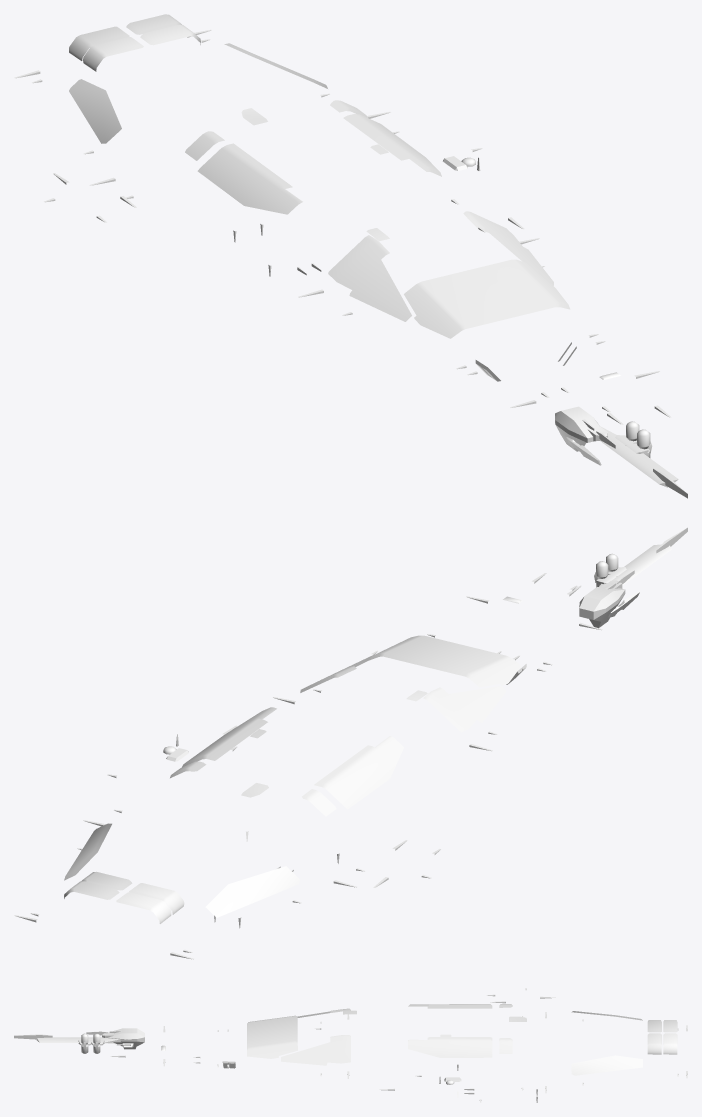
File: hgn_fs_seek_01_t3.glb
3 views of the same model, one above another, from view 1: azimuth 30°, elevation 25°; view 2: azimuth 150°, elevation 25°; view 3: azimuth 270°, elevation 25° (orthographic). The views are drawn at different scales.
Parts seen in each view (by area): view 1: hgn_fs_explorer_03_LOD0, hgn_fs_seeker_sensor_01_LOD0; view 2: hgn_fs_explorer_03_LOD0, hgn_fs_seeker_sensor_01_LOD0; view 3: hgn_fs_explorer_03_LOD0, hgn_fs_seeker_sensor_01_LOD0.
Boxes of the visible parts, left/top/right/bottom form: hgn_fs_explorer_03_LOD0: left=14, top=14, right=671, bottom=430; hgn_fs_seeker_sensor_01_LOD0: left=555, top=406, right=687, bottom=498; hgn_fs_explorer_03_LOD0: left=14, top=573, right=616, bottom=959; hgn_fs_seeker_sensor_01_LOD0: left=579, top=527, right=687, bottom=628; hgn_fs_explorer_03_LOD0: left=109, top=988, right=687, bottom=1102; hgn_fs_seeker_sensor_01_LOD0: left=14, top=1028, right=144, bottom=1053.
Size of what is drawn, in the model's own units: 7.39 by 2.59 by 19.63.
Materials: 2 (2 with a texture image).
